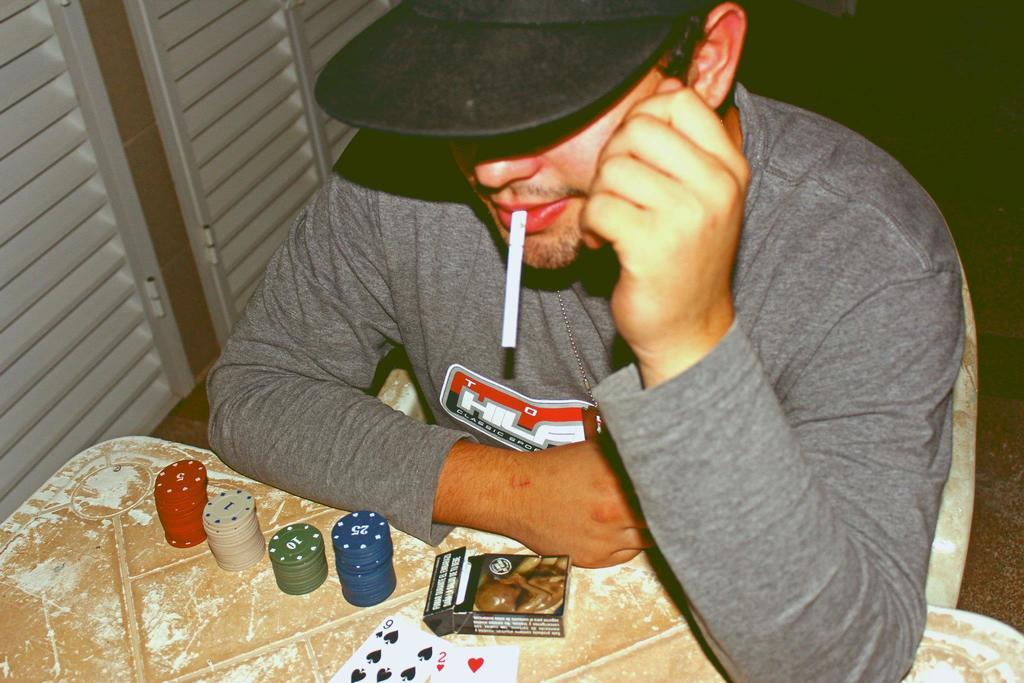Hat: (310, 0, 710, 138)
